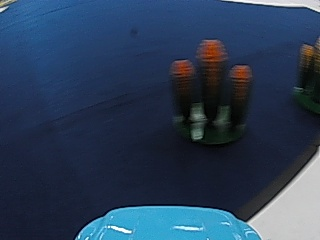corn: (170, 35, 245, 148), (293, 39, 318, 115)
